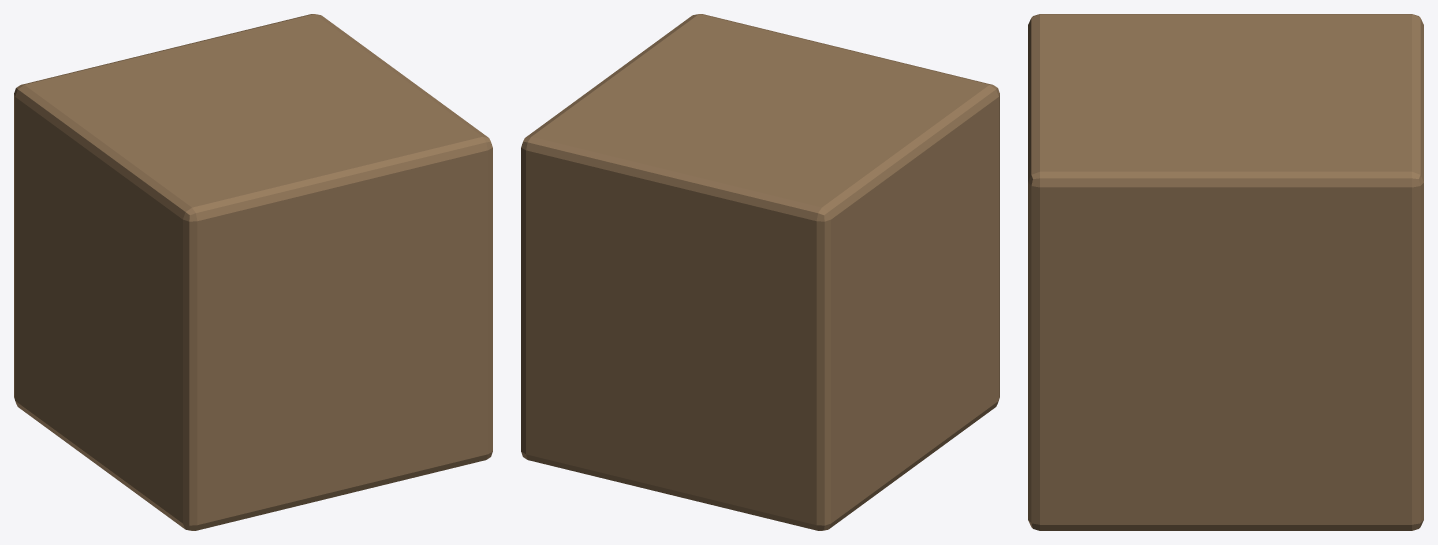
The model's file is crate.glb.
3 renders of one model, left to right at view 1: azimuth 30°, elevation 25°; view 2: azimuth 150°, elevation 25°; view 3: azimuth 270°, elevation 25°, orthographic. The views are drawn at different scales.
Parts seen in each view (by area): view 1: Crate; view 2: Crate; view 3: Crate.
Boxes of the visible parts, x1,y1,x2,y2 form: Crate: (14, 14, 492, 530); Crate: (521, 14, 999, 530); Crate: (1028, 14, 1423, 530).
Size of the model in its own units: 0.5 by 0.5 by 0.5.
